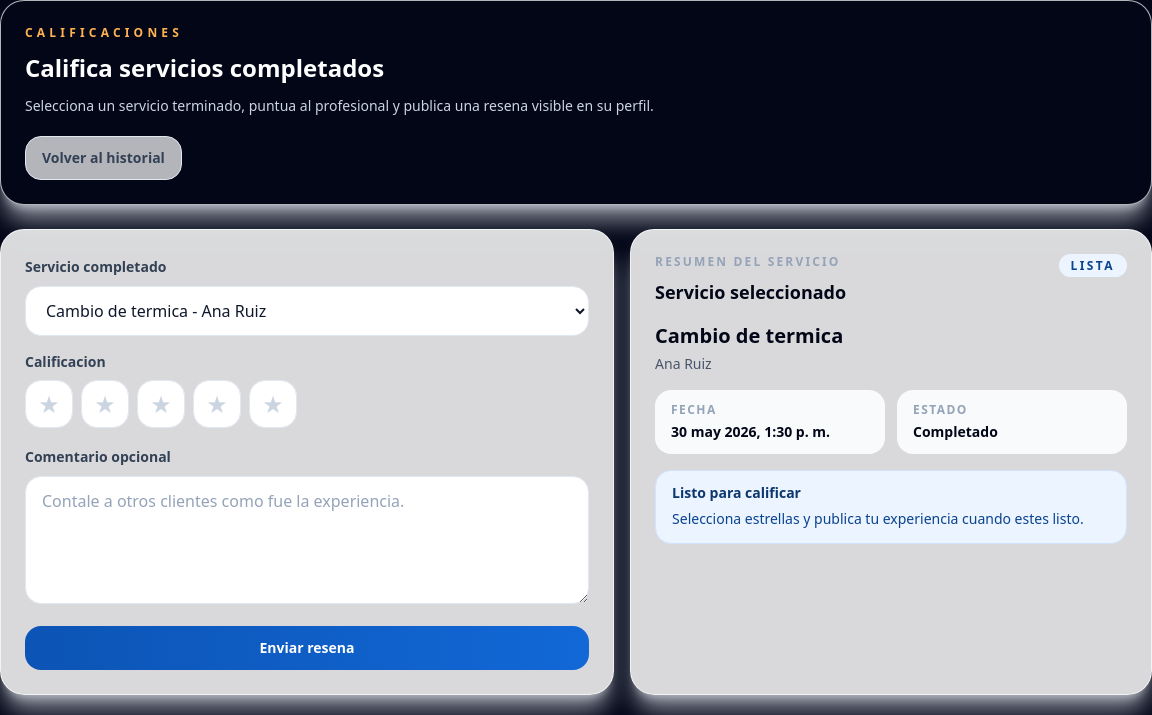
Test: ReviewsPage › publica una resena para un servicio completado
Expected: the heading "Cambio de termica" is shown, [655,322,843,349]
Click the radio button named "5 estrellas".
click(273, 404)  # box [249,380,297,428]
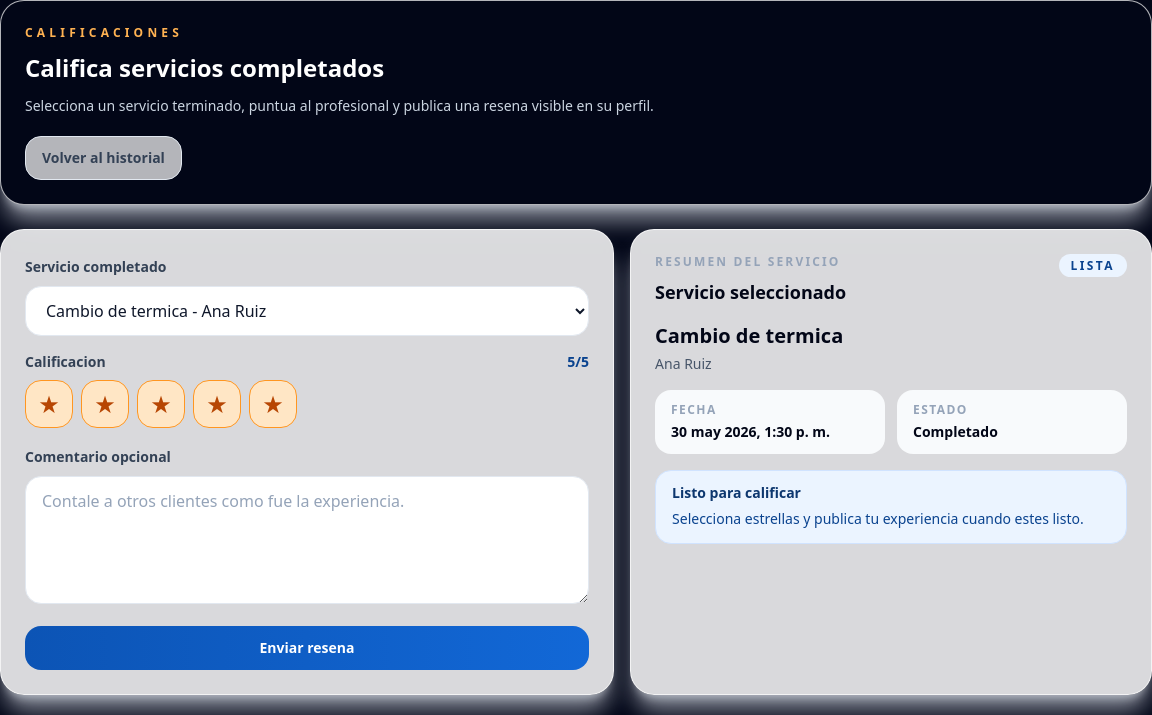
Type "Trabajo prolijo y puntual." into the text box labelled "Comentario opcional".
click(307, 540); type("Trabajo prolijo y puntual.")  # box [25,476,589,604]
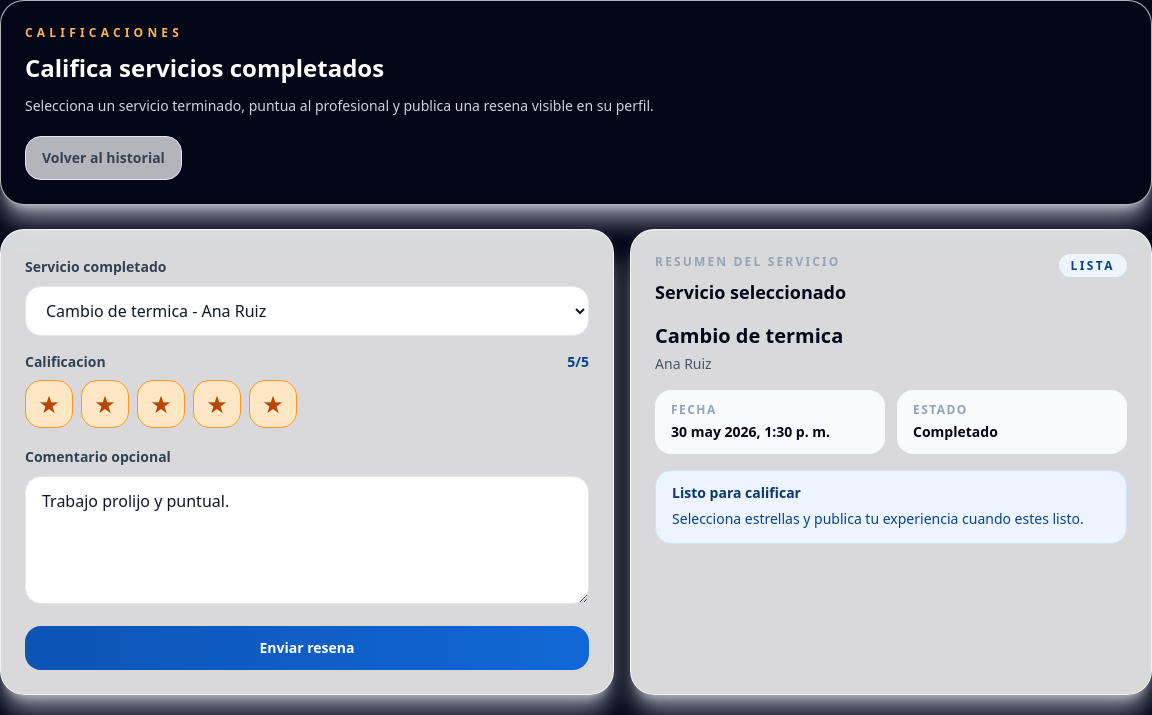
Click the button "Enviar resena".
click(307, 648)  # box [25,626,589,670]
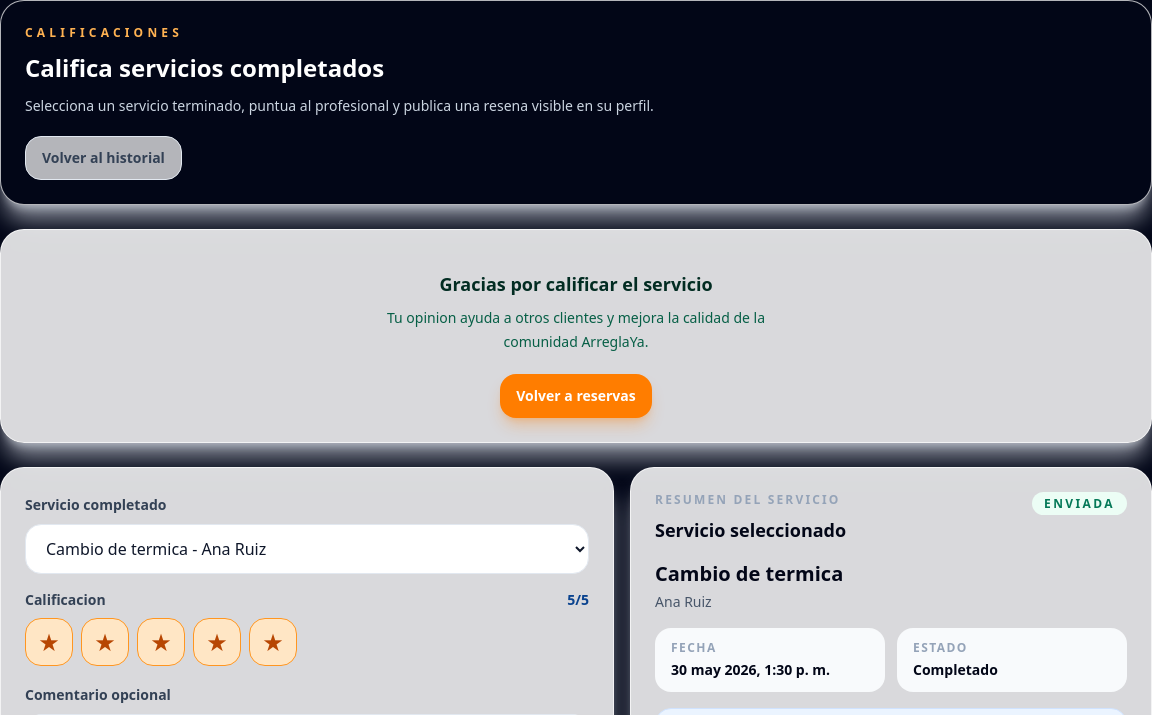
Now the heading "Gracias por calificar el servicio" is shown, box [440,272,713,296]
Now the button "Volver a reservas" is shown, box [500,374,652,418]
